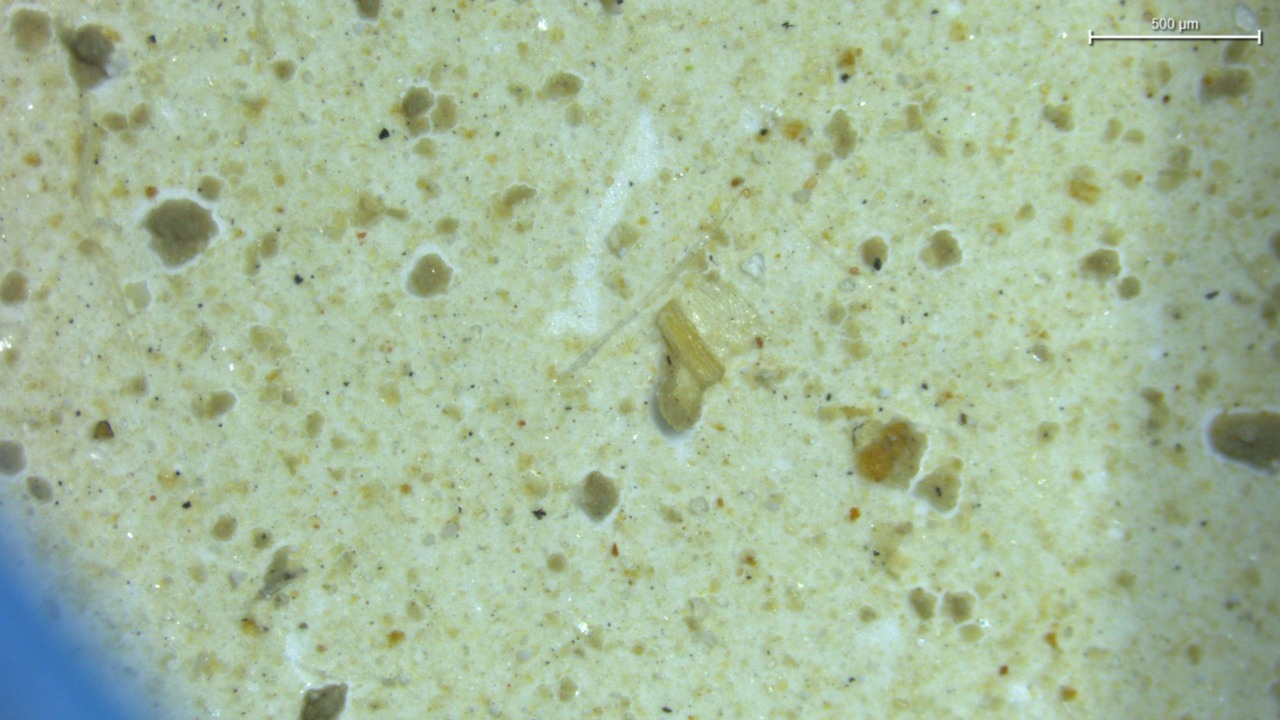microplastic_fragment: (655, 299, 724, 431)
